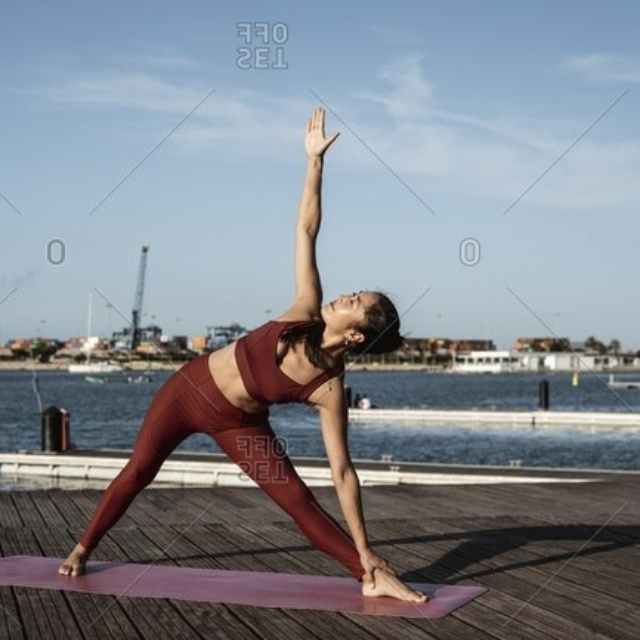Triangle_Pose: (50, 94, 441, 615)
